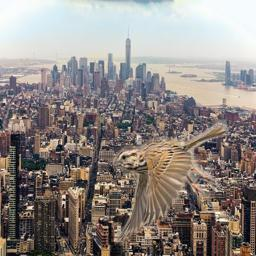Sparrow: (113, 116, 230, 246)
